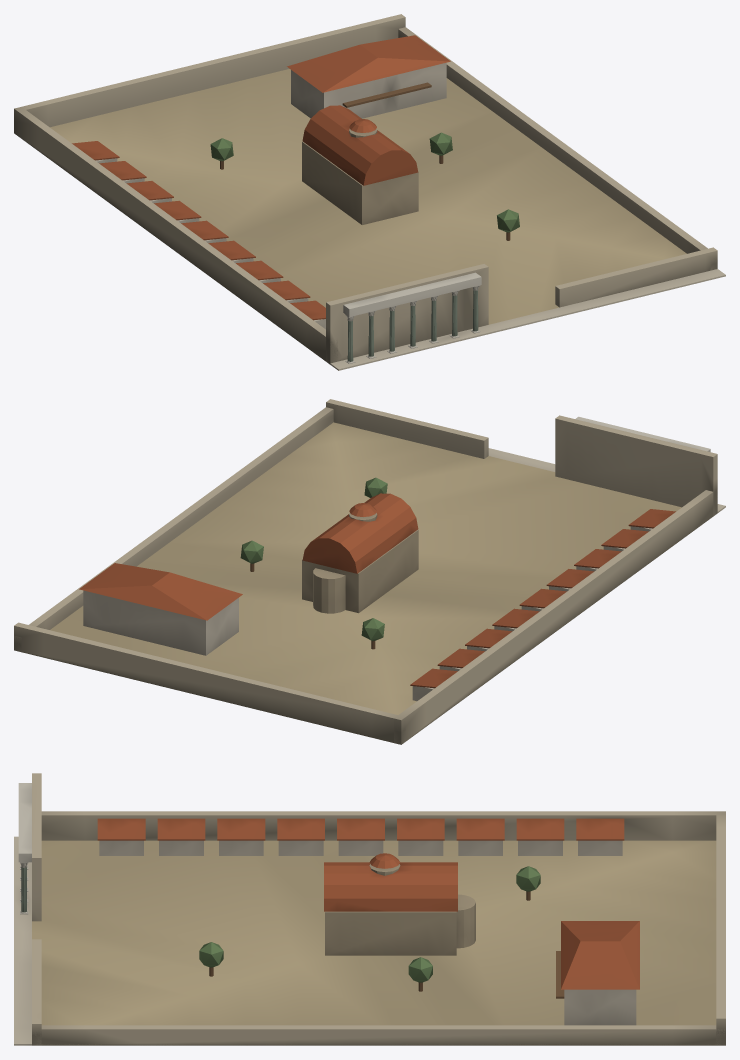
Rendered from hadrians-library-ruin.glb.
The picture shows the model from 3 angles, top to bottom: view 1: azimuth 30°, elevation 25°; view 2: azimuth 150°, elevation 25°; view 3: azimuth 270°, elevation 25°; orthographic projection. The views are drawn at different scales.
Parts seen in each view (by area): view 1: p0_court, p1_court, p2_roofs; view 2: p0_court, p1_court, p2_roofs; view 3: p0_court, p1_court, p2_roofs.
Part boxes in pixels (<box>): p0_court: <box>14,14,725,370</box>; p1_court: <box>95,62,480,363</box>; p2_roofs: <box>72,35,519,320</box>; p0_court: <box>14,399,725,744</box>; p1_court: <box>83,493,652,701</box>; p2_roofs: <box>79,416,710,688</box>; p0_court: <box>14,773,725,1045</box>; p1_court: <box>20,840,636,1025</box>; p2_roofs: <box>18,783,639,991</box>.
Bounding box in the file's own units: 82 × 15.99 × 119.
